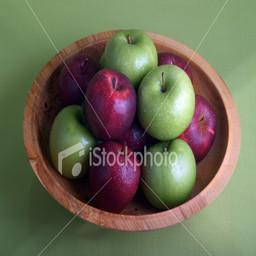apple: (136, 61, 195, 140), (47, 104, 97, 182), (83, 142, 139, 211), (140, 140, 196, 209), (82, 68, 135, 139), (102, 27, 158, 85), (178, 96, 218, 162), (56, 53, 102, 107)
